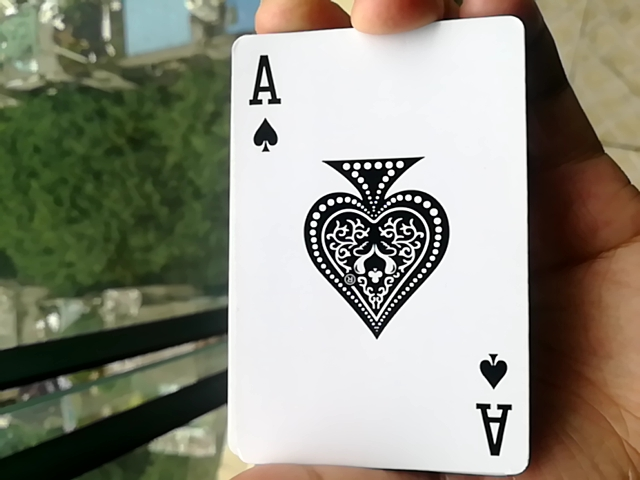ht a: (214, 40, 546, 478)
